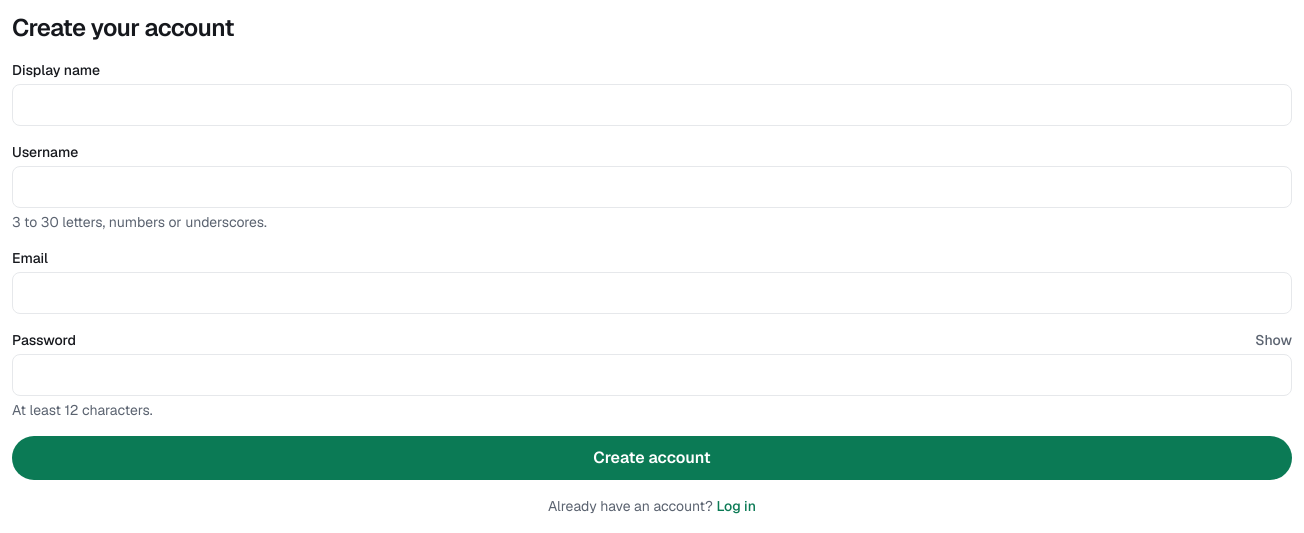
Test case: RegisterForm: one registration at a time › sends one request when the form is sent twice in the same moment
The width and height of the screenshot is (1304, 533).
In the field labelled "Display name": [652, 105] box [12,84,1292,126], type "  Test Viewer "
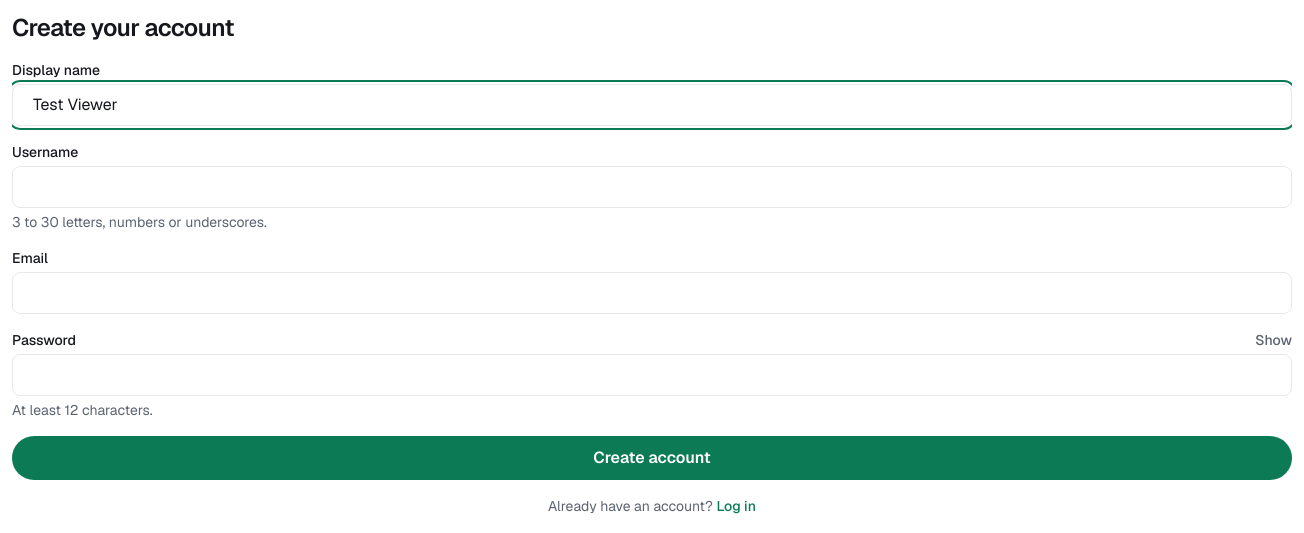
In the field labelled "Username": [652, 187] box [12,166,1292,208], type " test_viewer "
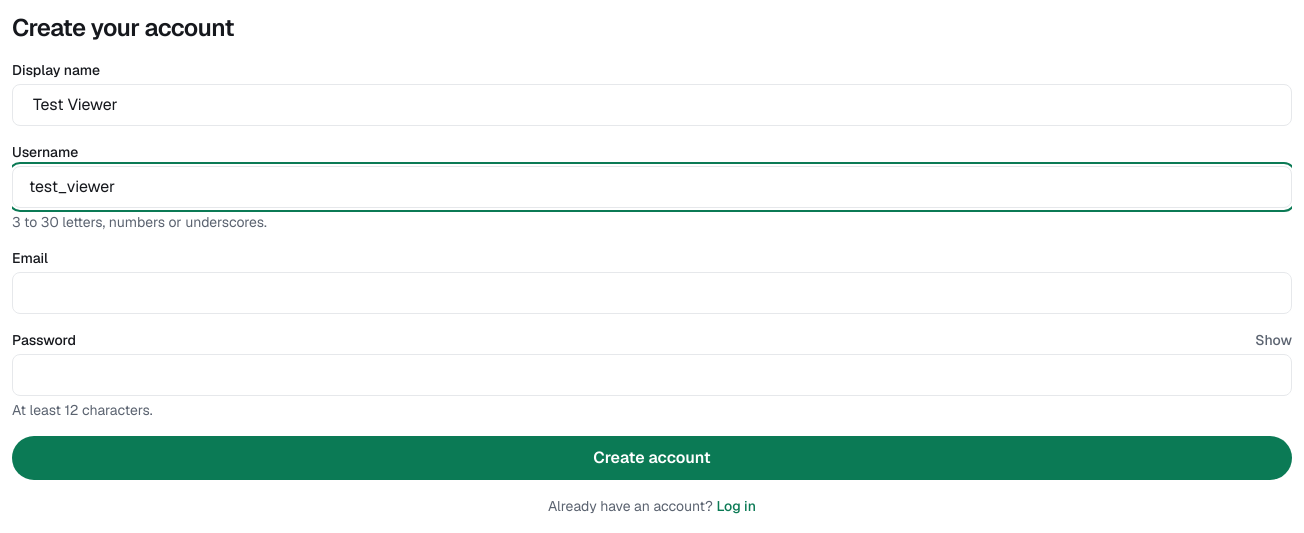
In the field labelled "Email": [652, 293] box [12,272,1292,314], type " test_viewer@example.com "
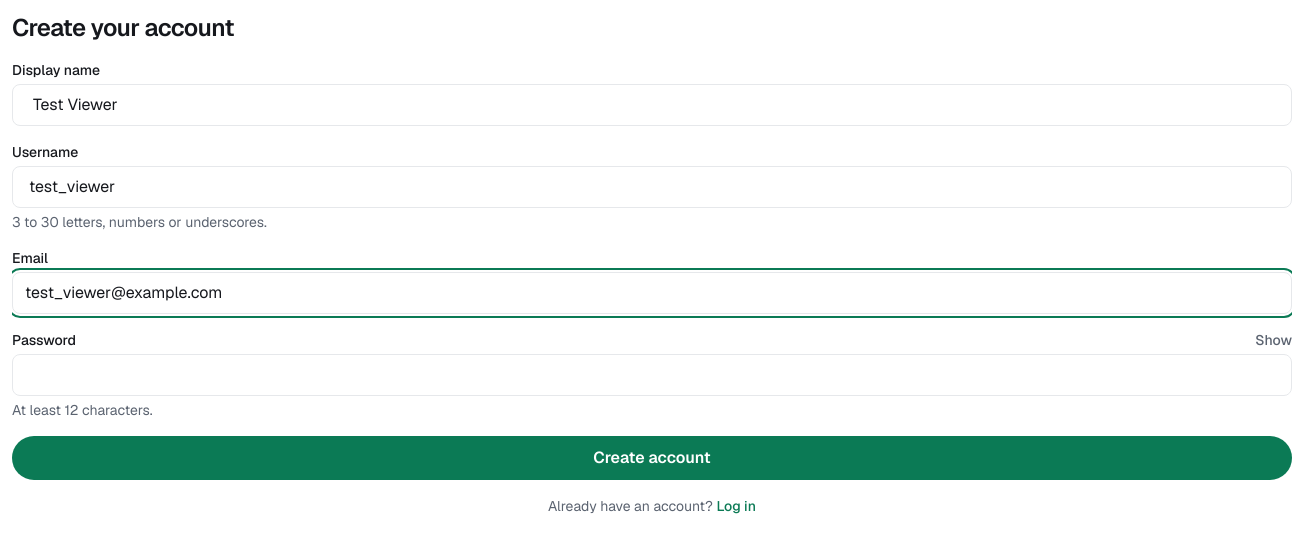
In the password field labelled "Password": [652, 375] box [12,354,1292,396], type " a long password "
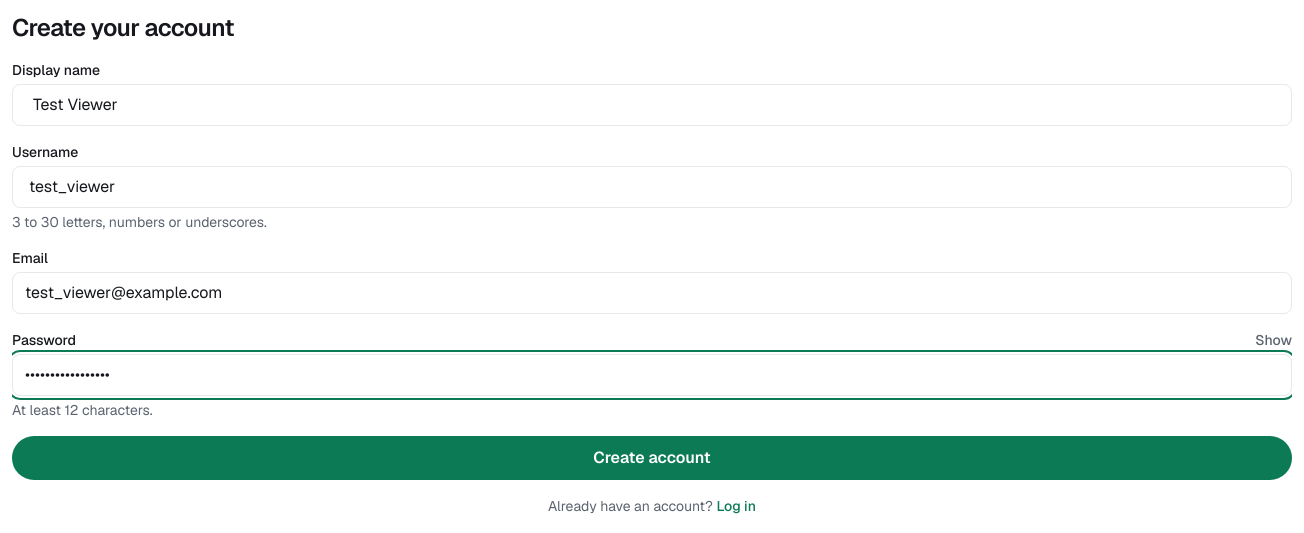
Submit the form named "Create account"
Submit the form named "Create account"
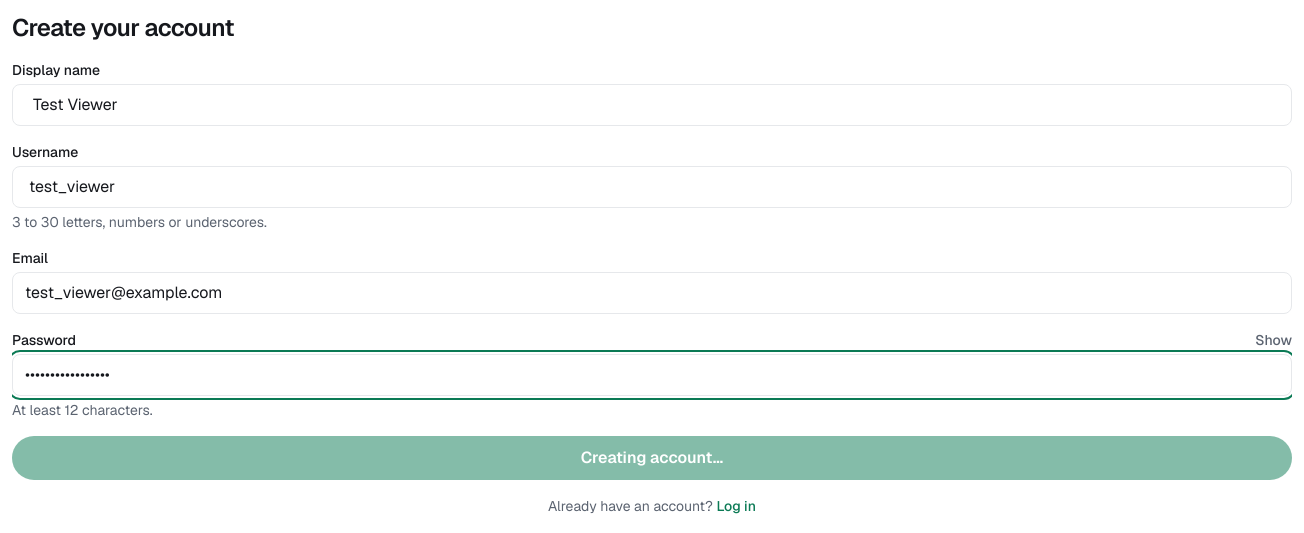
Result: the button "Creating account…" is disabled at [12,436,1292,480]
